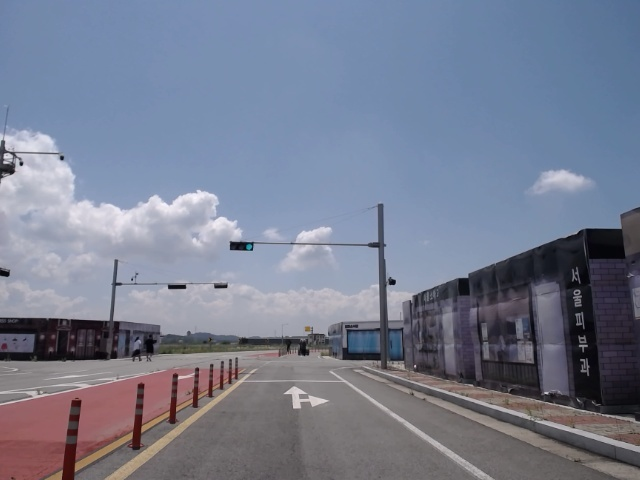green_3: (230, 242, 254, 251)
